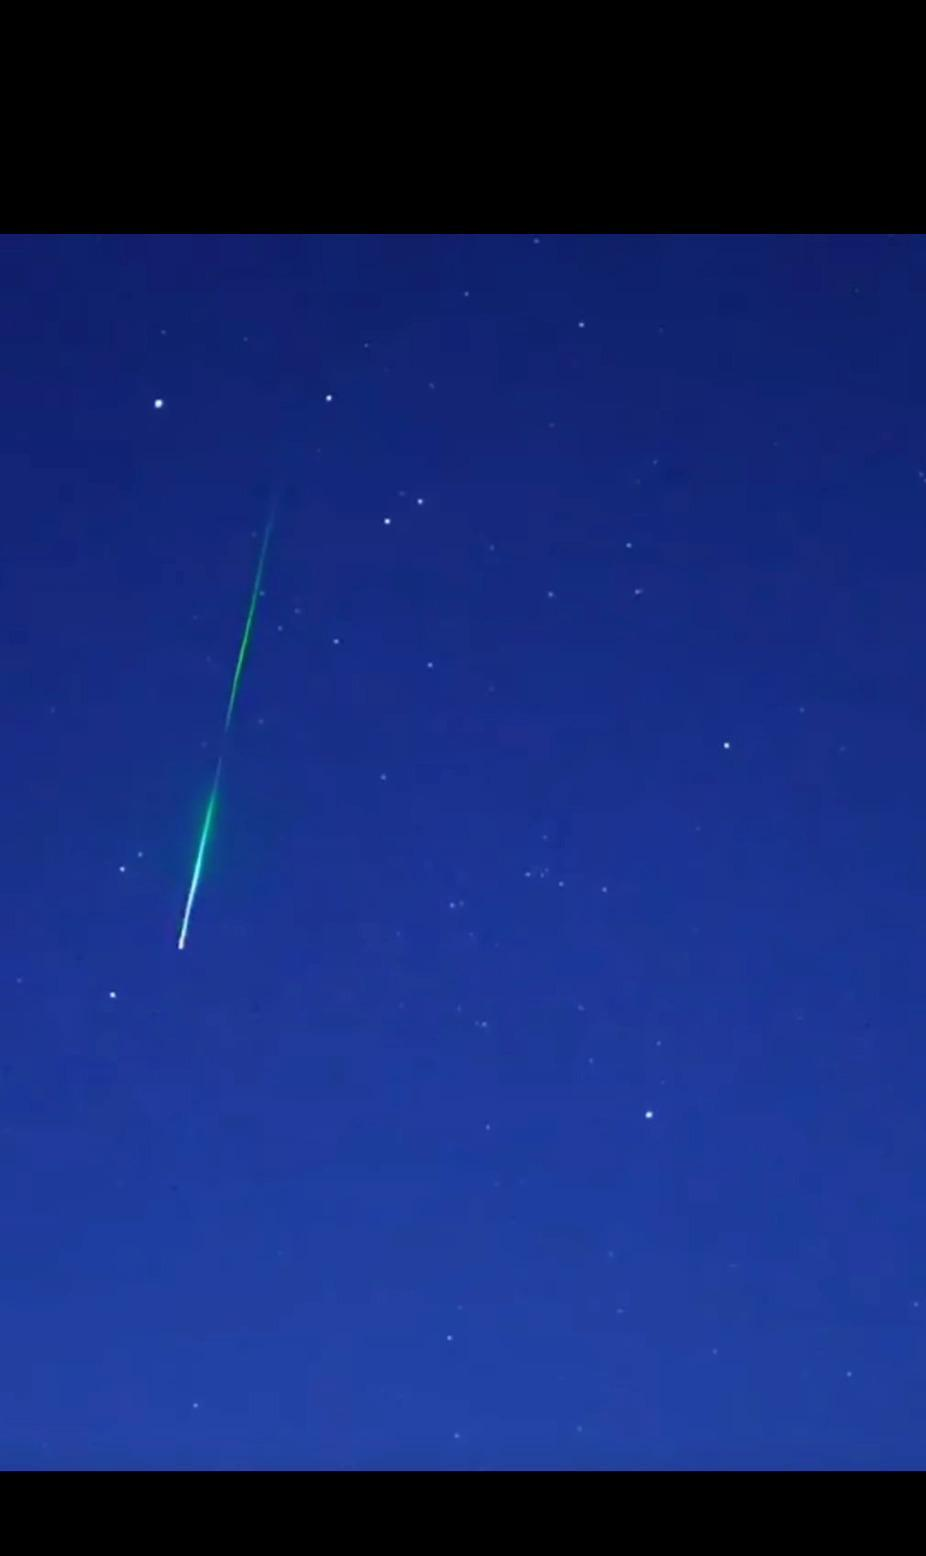meteorite: (153, 463, 299, 972)
